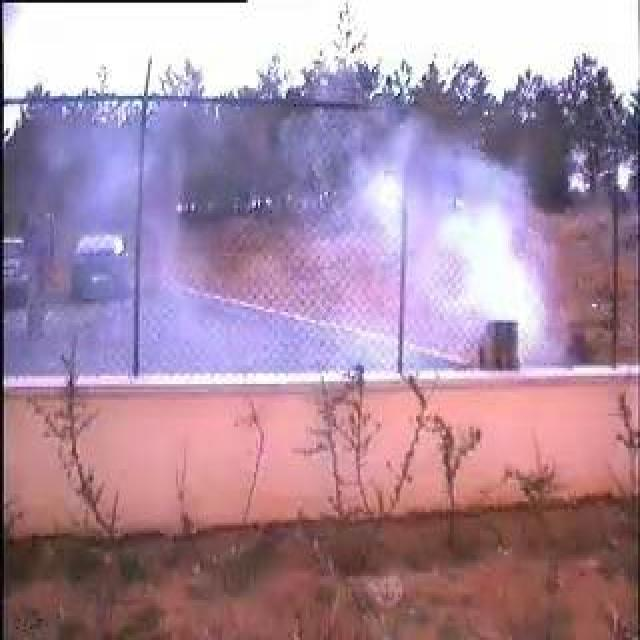Smoke: (54, 111, 548, 364)
